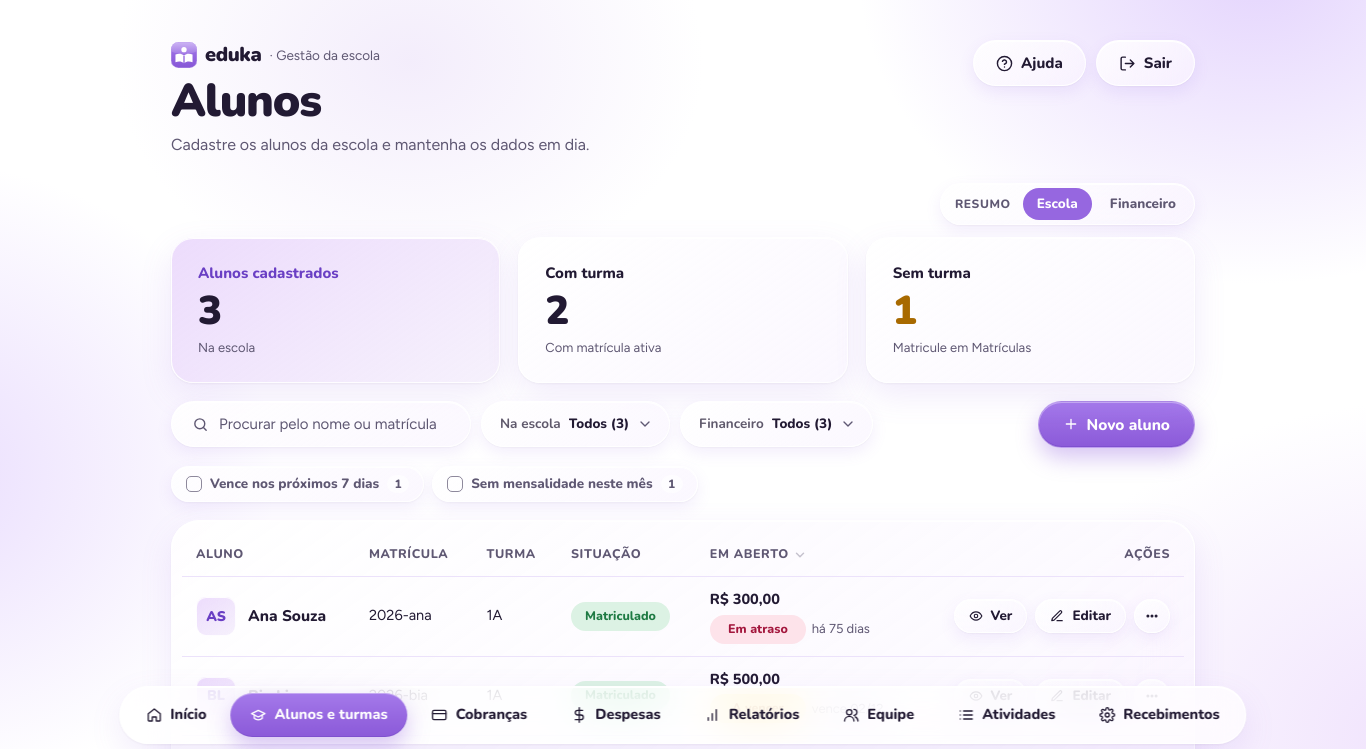
Test: Alunos: o financeiro de cada aluno › o MASTER escolhe entre o resumo da escola e o financeiro, e a escolha fica guardada
expect the text "Ana Souza" is shown: met, box top-left (248, 606), bottom-right (326, 626)
expect the element named "Resumo dos alunos" is shown: met, box top-left (171, 237), bottom-right (1195, 383)
Click the button "Financeiro" at (1143, 204), box top-left (1096, 188), bottom-right (1190, 220)
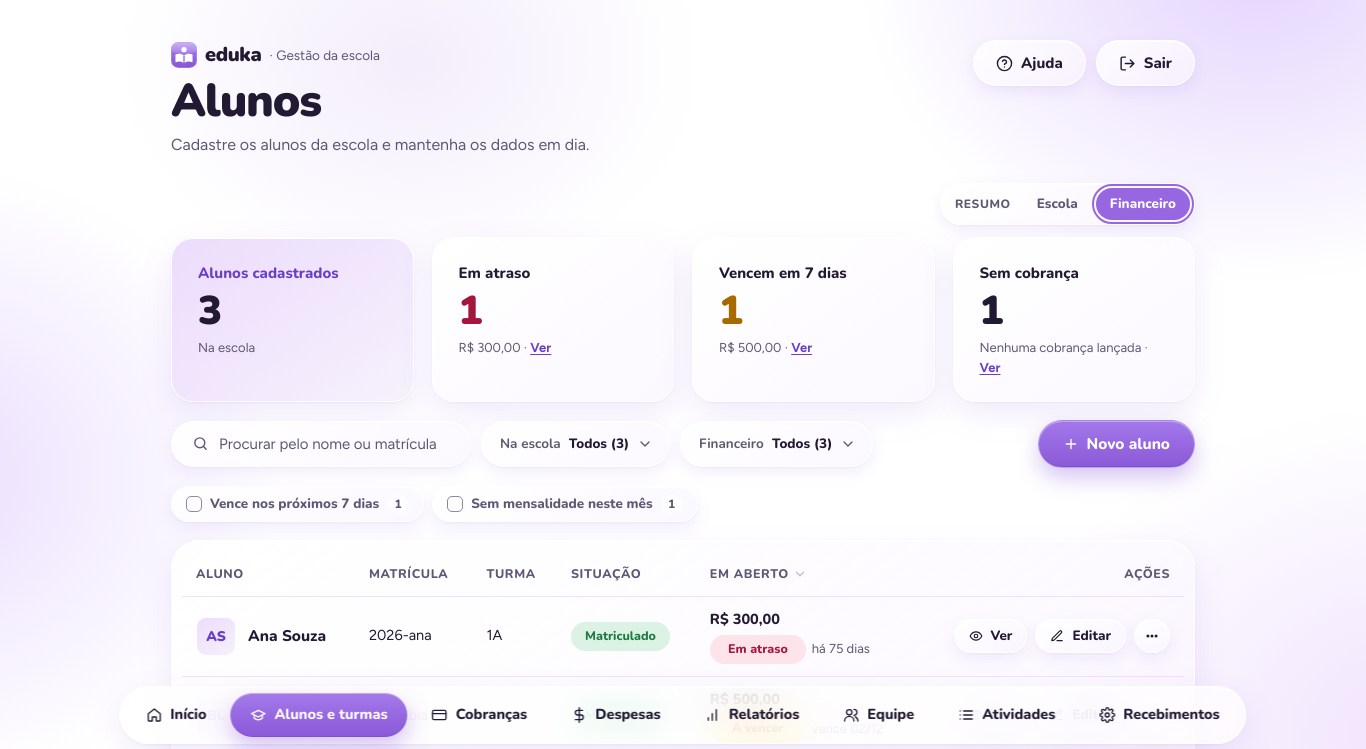
expect the button "Novo aluno" is shown: met, box top-left (1038, 420), bottom-right (1195, 468)
expect the element named "Resumo financeiro dos alunos" is shown: met, box top-left (171, 237), bottom-right (1195, 402)
